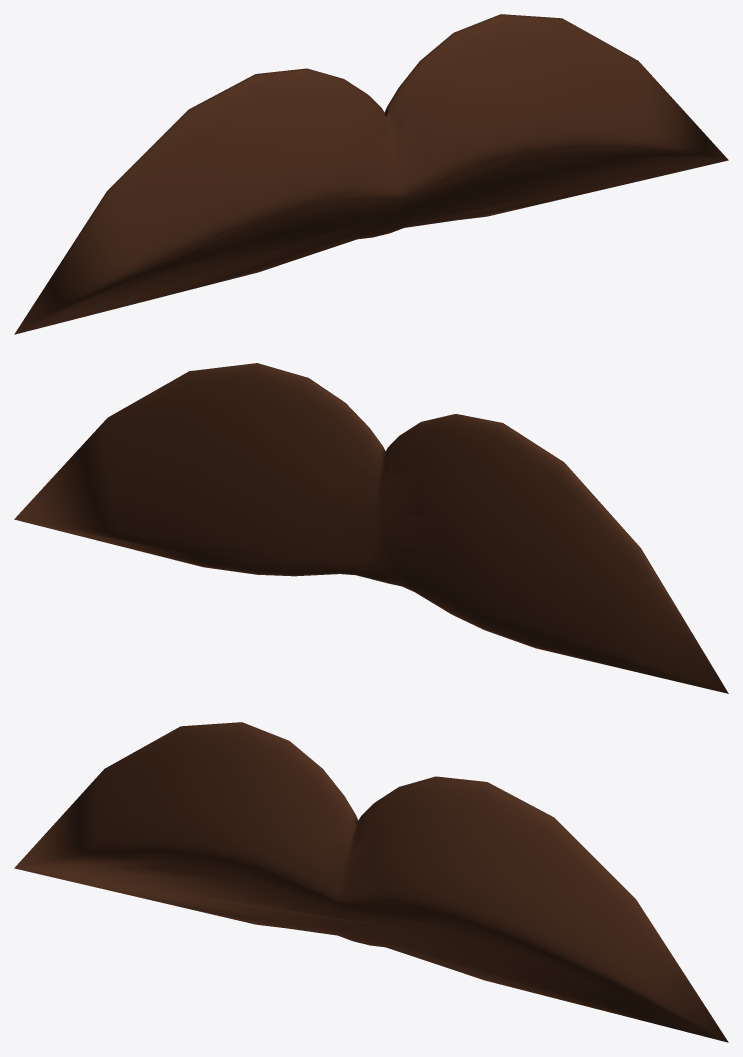
3 views of the same model, one above another, from view 1: azimuth 30°, elevation 25°; view 2: azimuth 150°, elevation 25°; view 3: azimuth 330°, elevation 25° (orthographic).
Parts seen in each view (by area): view 1: beardMustacheThick; view 2: beardMustacheThick; view 3: beardMustacheThick.
Boxes of the visible parts, x1,y1,x2,y2 form: beardMustacheThick: [14, 14, 728, 334]; beardMustacheThick: [14, 363, 728, 693]; beardMustacheThick: [14, 722, 728, 1042].
Size of the model in its own units: 0.2035 by 0.0567 by 0.0205.
1 material, 1 textured.
